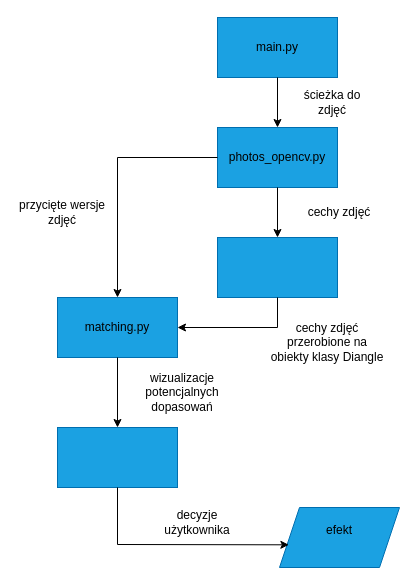
This 417x585 diagram has some shape labels left out. Each missing label, with the box of its shape:
dialog_window .py: (56, 426, 178, 488)
Diangle .py: (216, 236, 338, 298)
